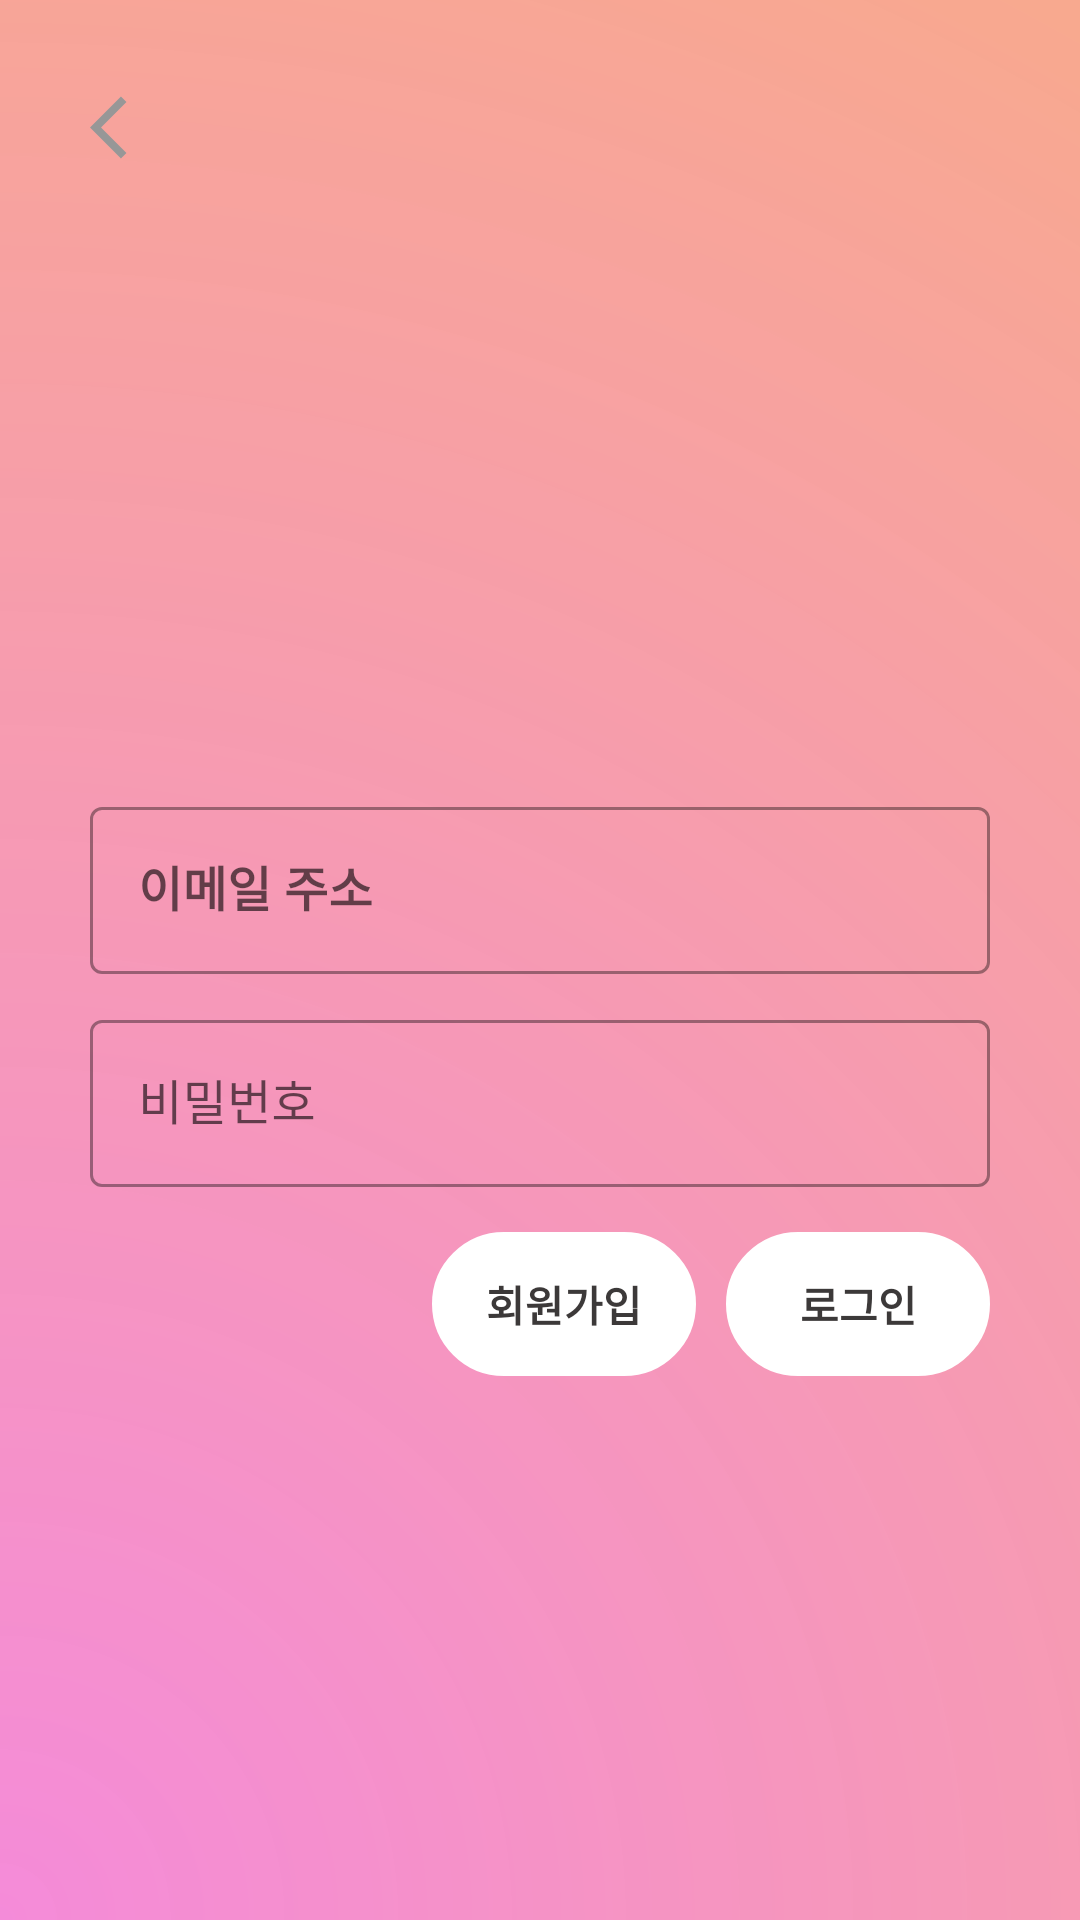

Locate icon controls on the screen. Image size 1080×1920, boxes as (x1, y1, x2, y2).
back: (90, 97, 126, 158)
